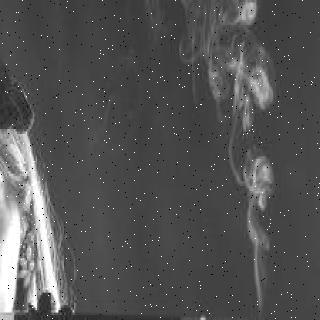smoke: (194, 0, 291, 298)
